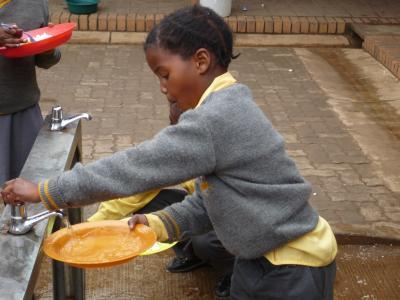person: (1, 6, 339, 300)
